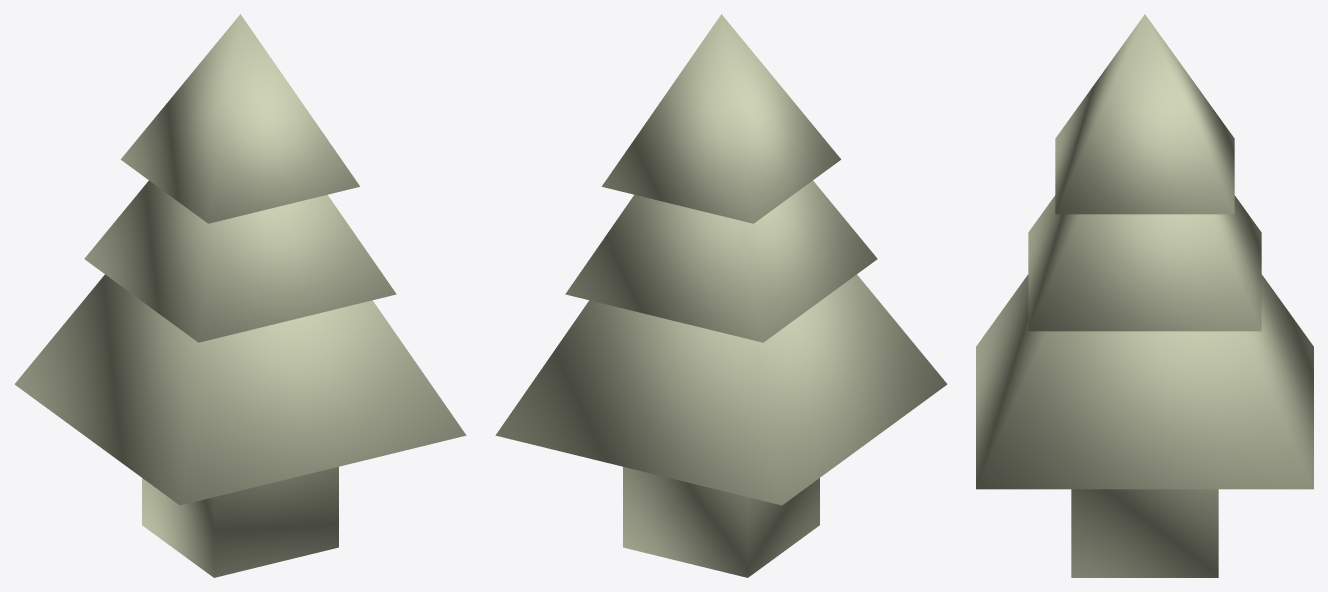
The model's file is FireTreeModel.dae.
3 renders of one model, left to right at view 1: azimuth 30°, elevation 25°; view 2: azimuth 150°, elevation 25°; view 3: azimuth 270°, elevation 25°, orthographic. The views are drawn at different scales.
Visible parts, largest first — view 1: Cube3-0, Cube3_copy4-0, Cube3_copy5-0, Cube1-0; view 2: Cube3-0, Cube3_copy4-0, Cube3_copy5-0, Cube1-0; view 3: Cube3-0, Cube3_copy4-0, Cube3_copy5-0, Cube1-0.
Part boxes in pixels (x1,y1,x2,y2): Cube3-0: (14,274,466,505); Cube3_copy4-0: (84,180,396,342); Cube3_copy5-0: (121,14,359,223); Cube1-0: (142,466,338,577); Cube3-0: (495,274,947,505); Cube3_copy4-0: (565,180,877,342); Cube3_copy5-0: (602,14,840,223); Cube1-0: (623,466,819,577); Cube3-0: (976,274,1313,489); Cube3_copy4-0: (1028,195,1261,331); Cube3_copy5-0: (1055,14,1234,214); Cube1-0: (1071,489,1218,577).
Bounding box in the file's own units: 4.59 × 7.99 × 4.59.
